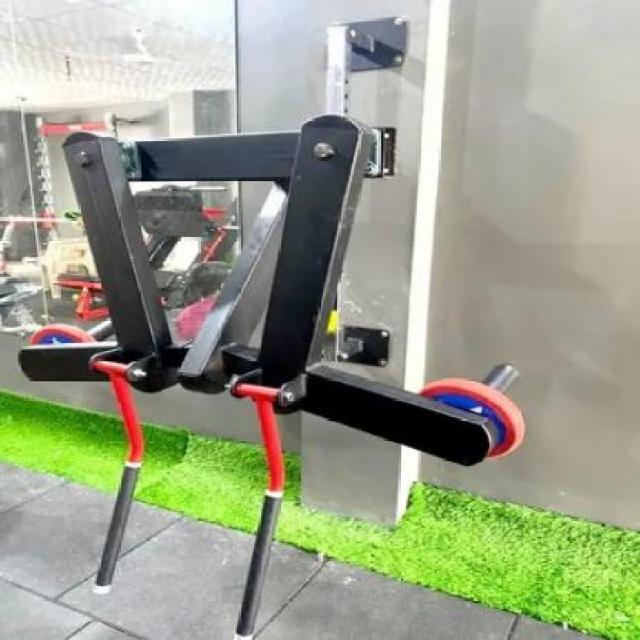lateral raises machine: (23, 115, 528, 640)
